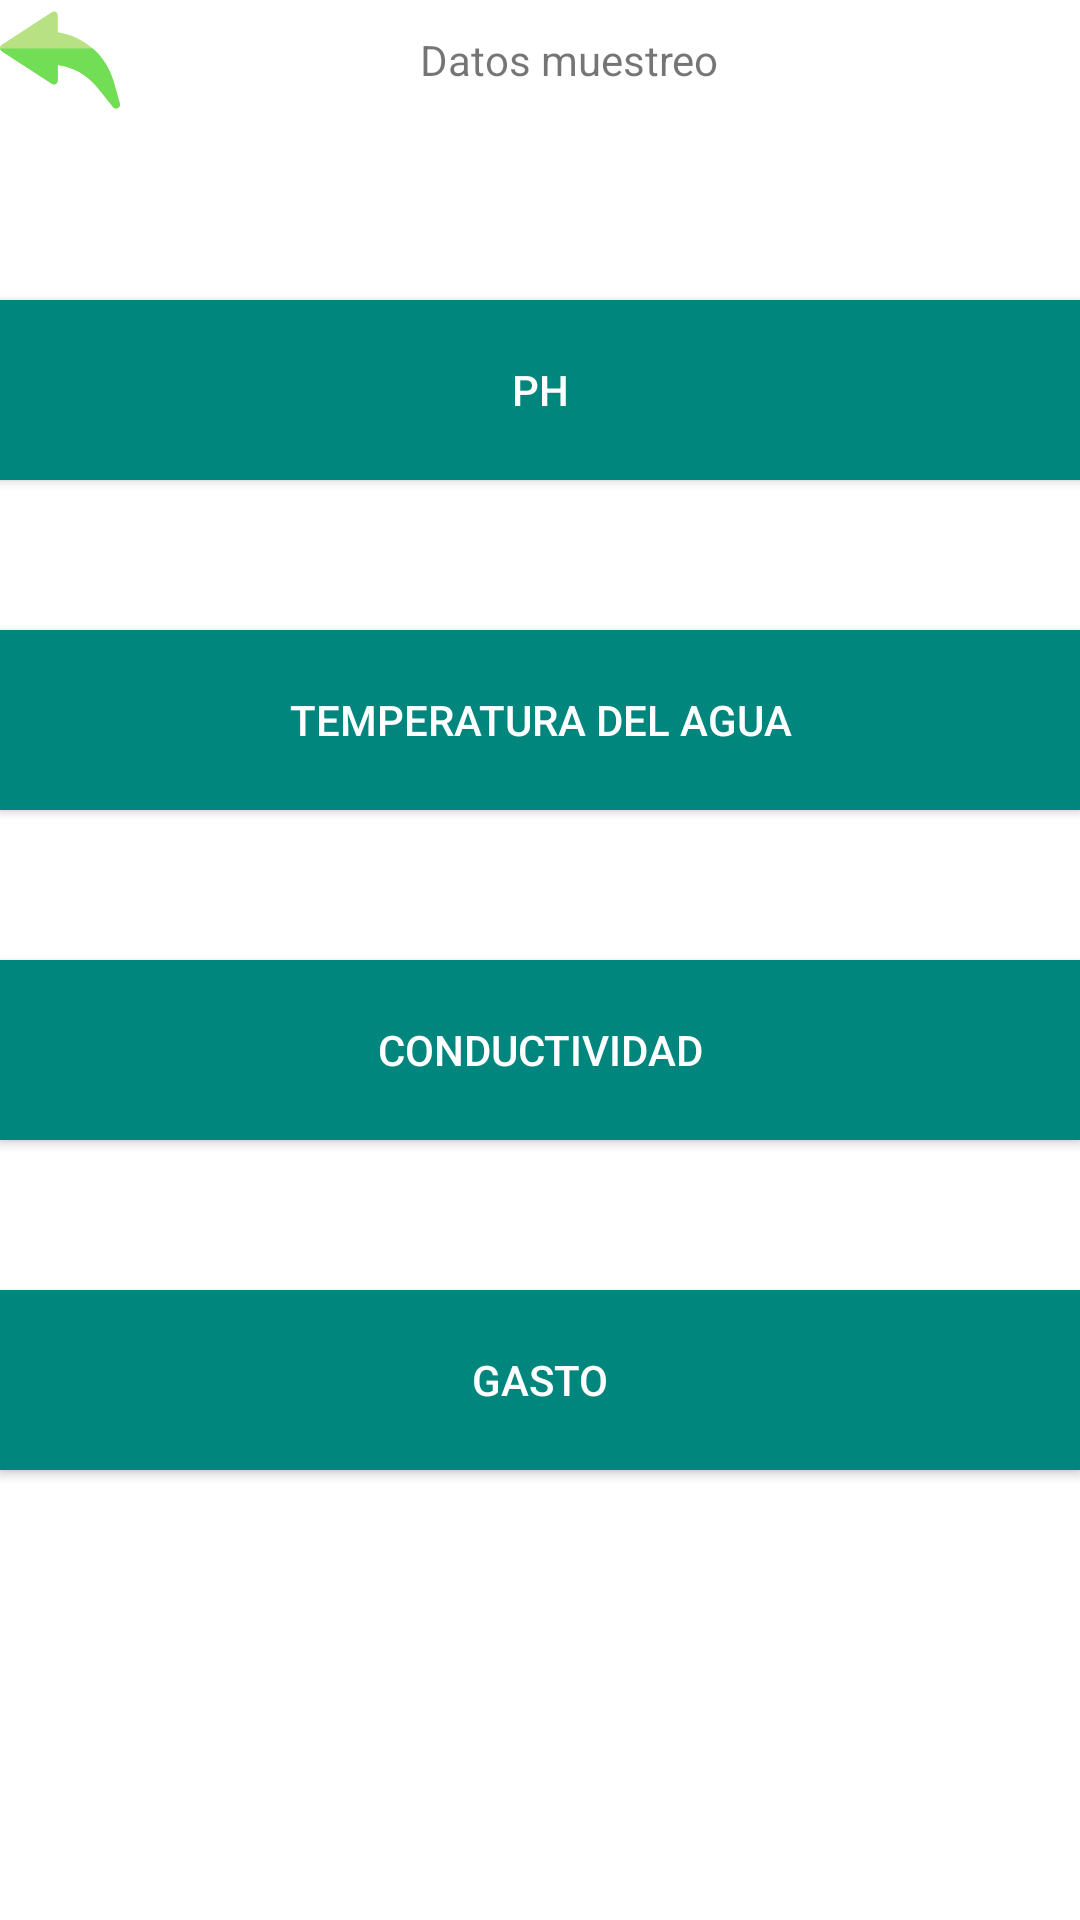

Where to tap for icons on this 1080 x 1920 app screen, as point (x, y):
return: point (60, 60)
